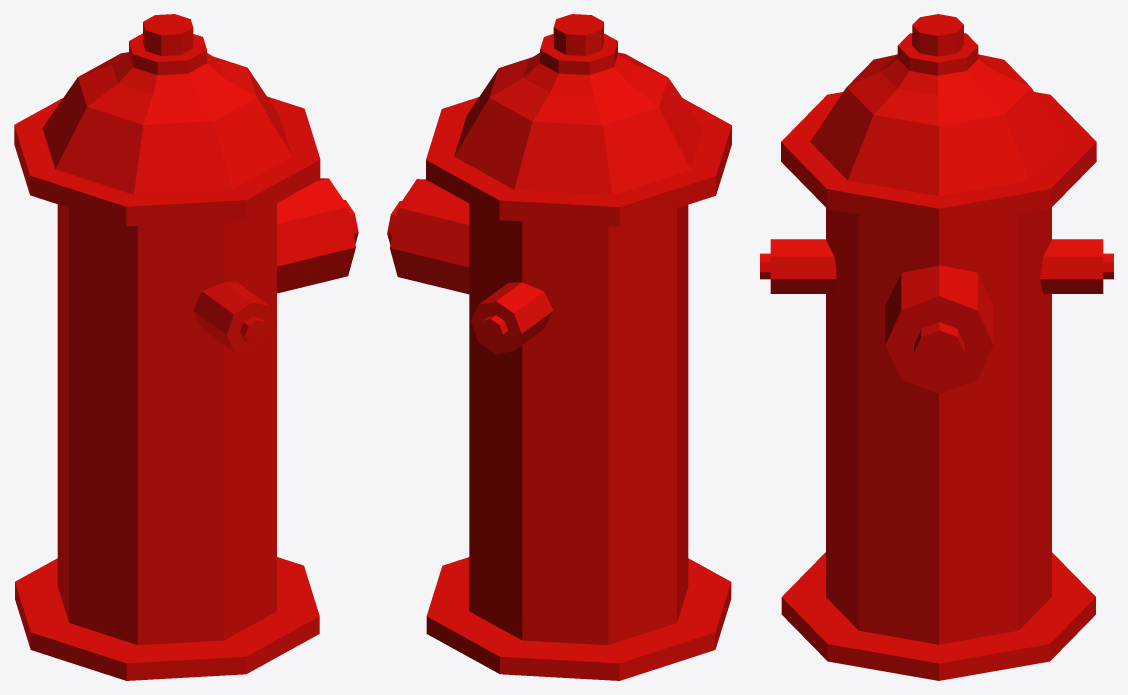
File: firehydrent.fbx
The picture shows the model from 3 angles, left to right: view 1: azimuth 30°, elevation 25°; view 2: azimuth 150°, elevation 25°; view 3: azimuth 270°, elevation 25°; orthographic projection.
Parts seen in each view (by area): view 1: fire hydrent; view 2: fire hydrent; view 3: fire hydrent.
Boxes of the visible parts, x1=… form: fire hydrent: x1=14, y1=14, x2=358, y2=680; fire hydrent: x1=387, y1=14, x2=731, y2=680; fire hydrent: x1=760, y1=14, x2=1113, y2=680.
Bounding box in the file's own units: 70.85 × 127 × 68.94.
